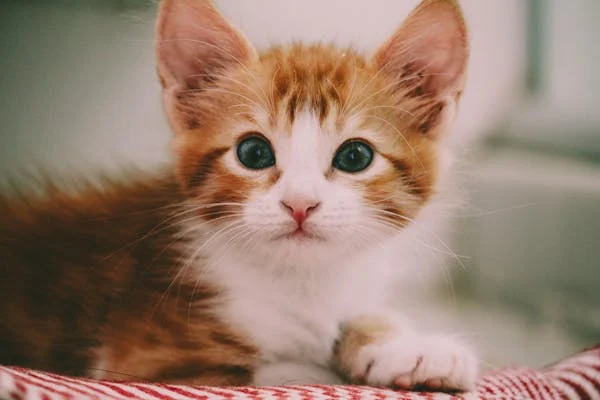Cat: (1, 3, 475, 392)
